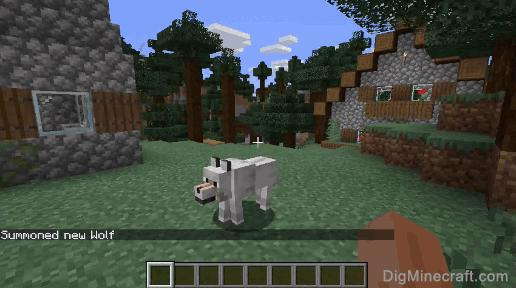wolf: (193, 155, 278, 224)
